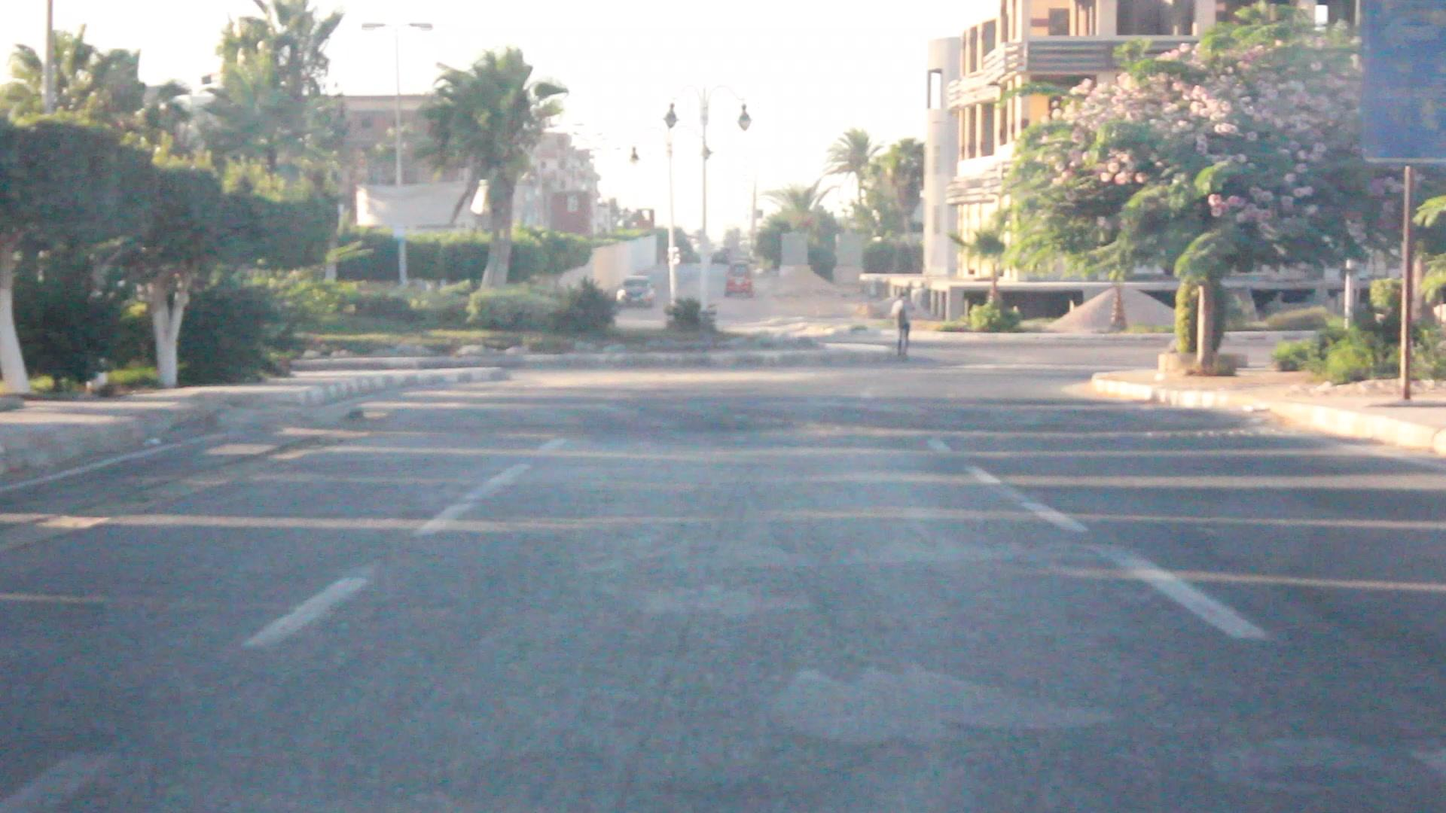Bump: (339, 397, 1216, 438)
